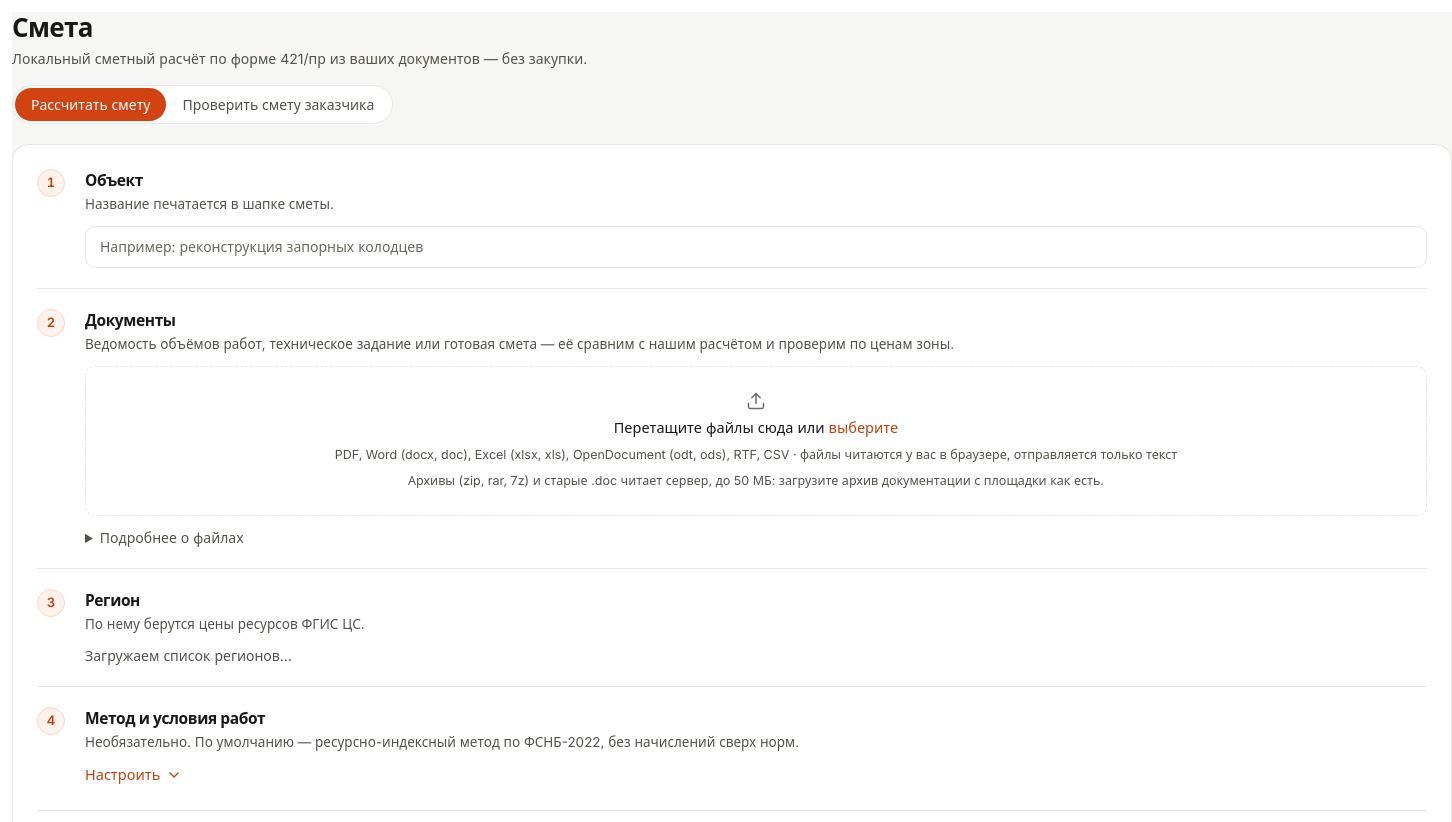
EstimateUploadView: вкладки и точки входа › вкладка проверки: своё действие и своё описание, шага «Метод и условия работ» нет
Check: the heading "Метод и условия работ" is shown, box [85, 709, 265, 728]
Step 1. Click the tab "Проверить смету заказчика" → click(278, 104), box [166, 88, 390, 120]
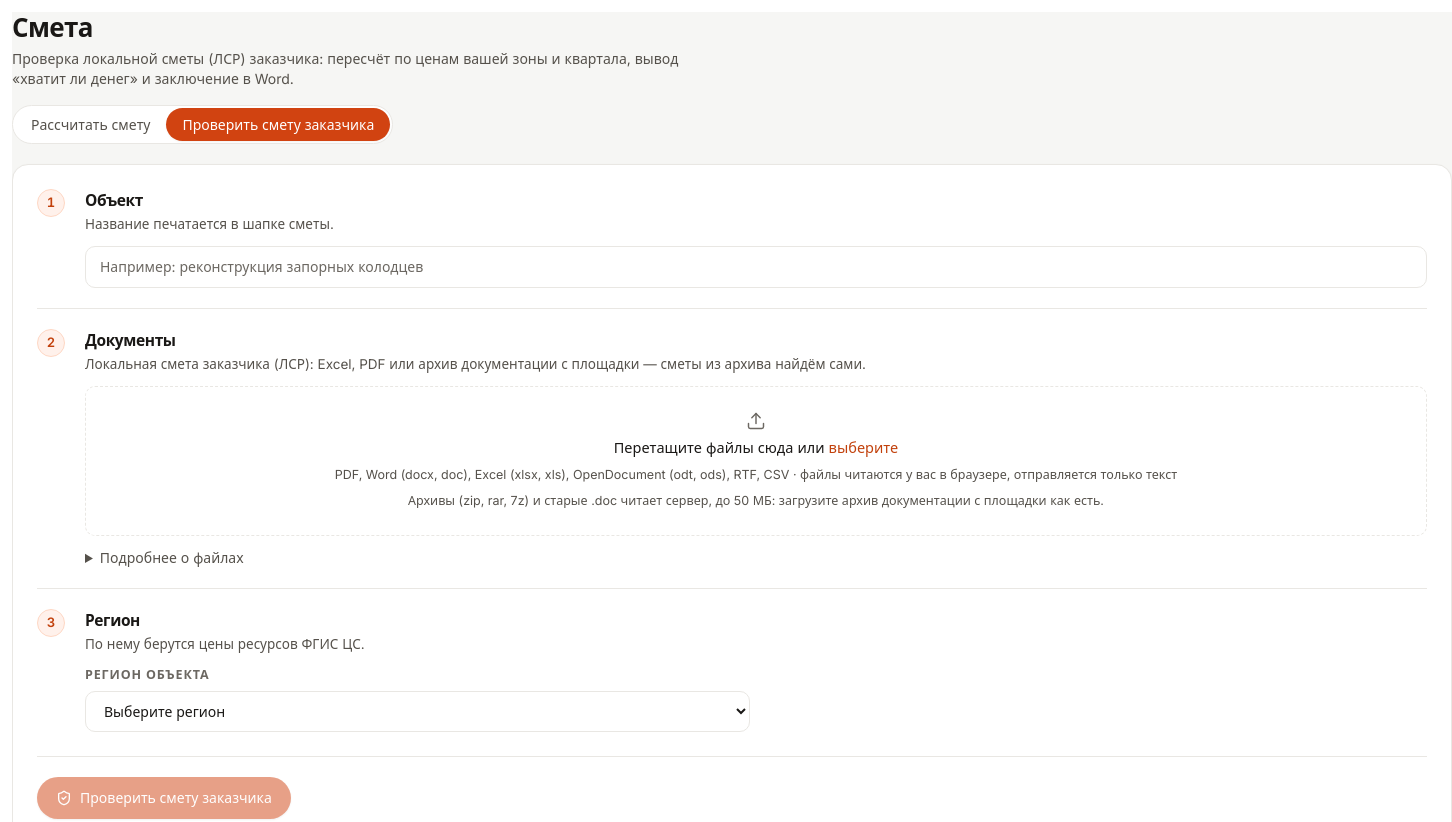
Check: the button "Проверить смету заказчика" is disabled, box [37, 777, 291, 819]
Check: the heading "Метод и условия работ" is gone
Check: the text "Проверка локальной сметы (ЛСР) заказчика" is shown, box [12, 50, 678, 86]
